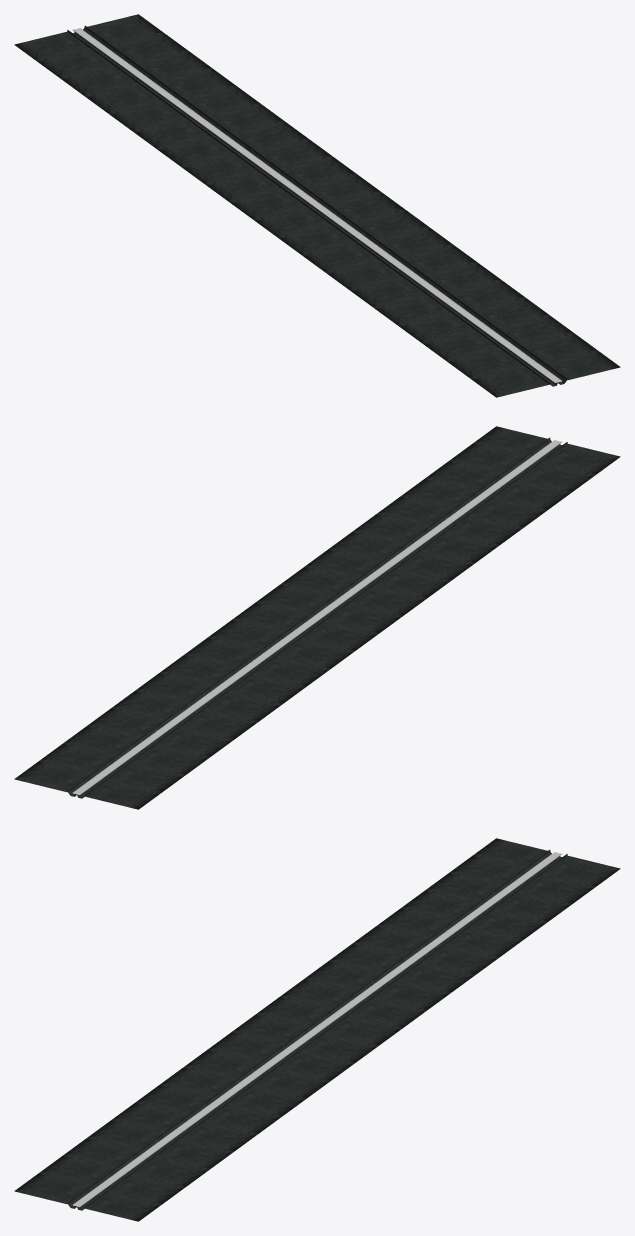
The model's file is Road_town.fbx.
3 views of the same model, one above another, from view 1: azimuth 30°, elevation 25°; view 2: azimuth 150°, elevation 25°; view 3: azimuth 330°, elevation 25° (orthographic).
Visible parts, largest first — view 1: RoadTown; view 2: RoadTown; view 3: RoadTown.
Boxes of the visible parts, x1=… form: RoadTown: x1=14, y1=14, x2=620, y2=397; RoadTown: x1=14, y1=426, x2=620, y2=809; RoadTown: x1=14, y1=838, x2=620, y2=1221.
Bounding box in the file's own units: 18572 × 643 × 124527.
